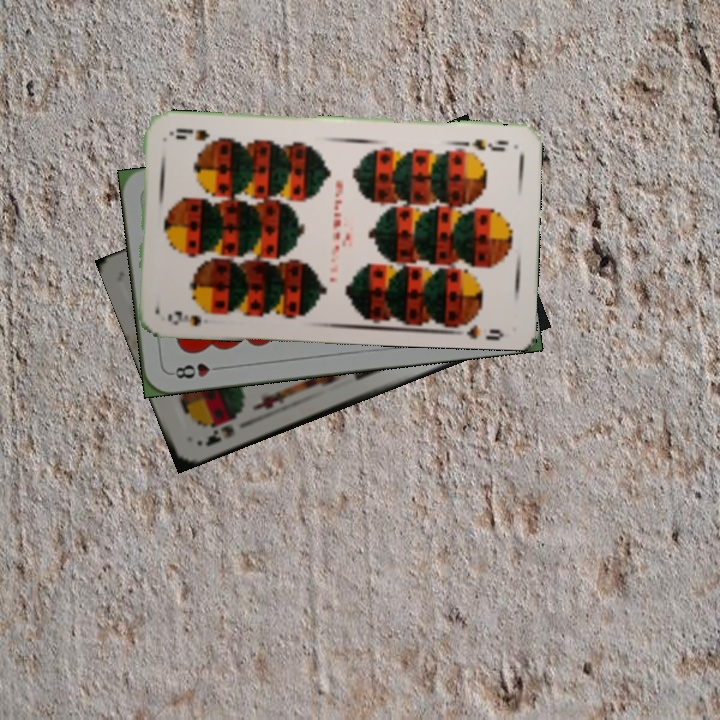H8: (167, 359, 226, 382)
S9: (163, 304, 220, 329), (468, 134, 511, 154)
SK: (201, 421, 237, 449)
